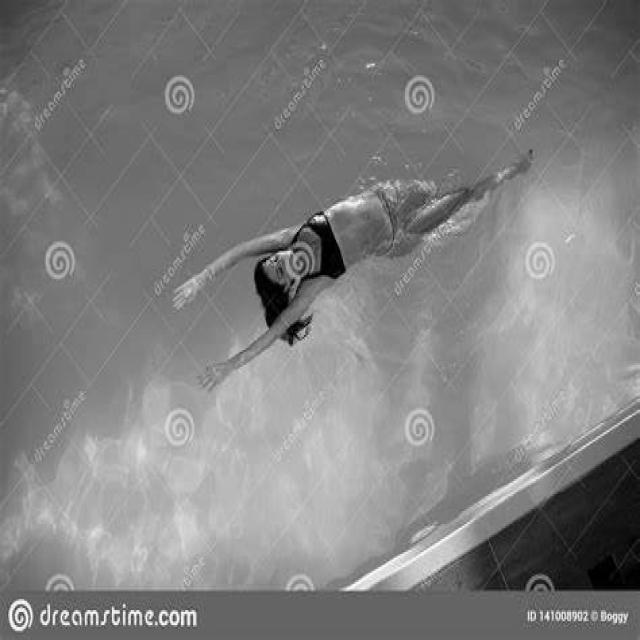swimming: (145, 150, 567, 393)
